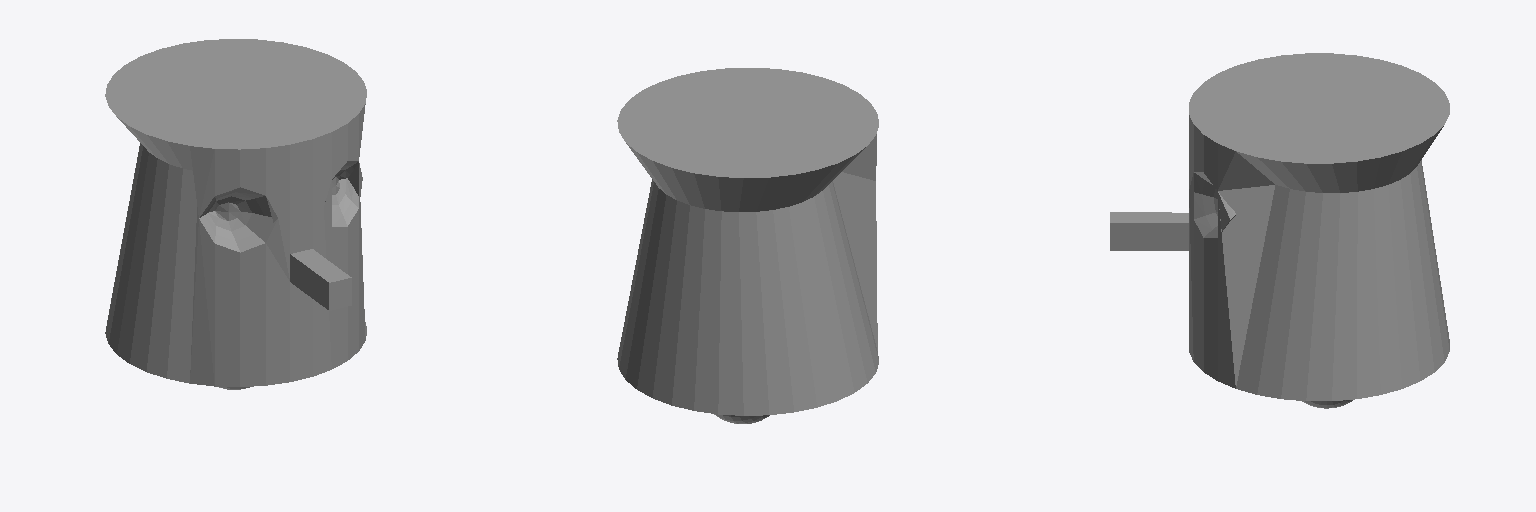
File: head2.obj
3 views of the same model, side by side, from view 1: azimuth 30°, elevation 25°; view 2: azimuth 150°, elevation 25°; view 3: azimuth 270°, elevation 25° (orthographic).
Visible parts, largest first — view 1: Cylinder.001_Cylinder.003; view 2: Cylinder.001_Cylinder.003; view 3: Cylinder.001_Cylinder.003.
Part boxes in pixels (x1,y1,x2,y2): Cylinder.001_Cylinder.003: (105, 39, 366, 386); Cylinder.001_Cylinder.003: (617, 68, 878, 415); Cylinder.001_Cylinder.003: (1110, 53, 1449, 400).
Bounding box in the file's own units: 0.5073 × 0.6323 × 0.66.